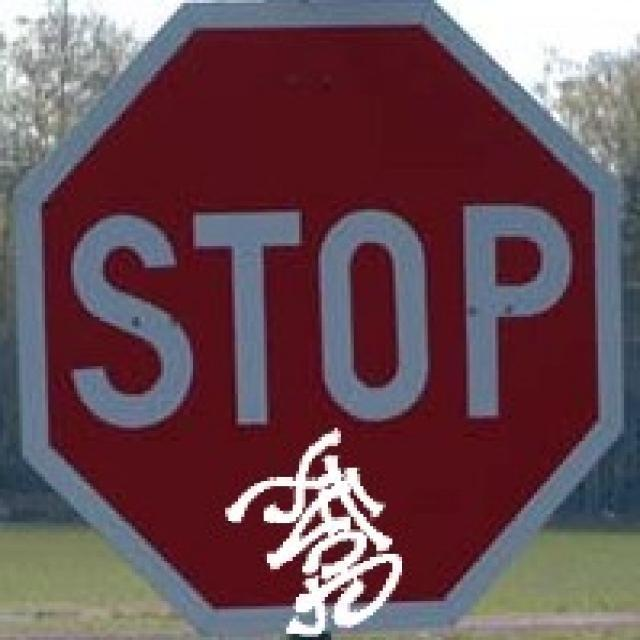Stop-Sign: (76, 40, 588, 585)
